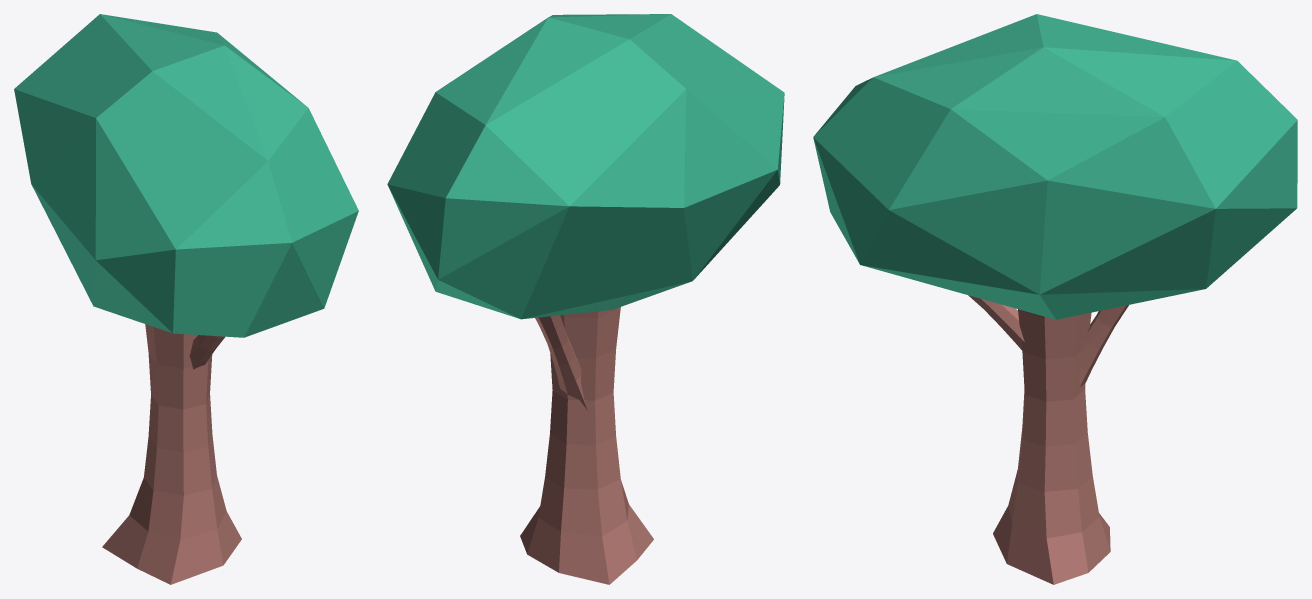
File: ArbolVerde.fbx
3 views of the same model, side by side, from view 1: azimuth 30°, elevation 25°; view 2: azimuth 150°, elevation 25°; view 3: azimuth 270°, elevation 25° (orthographic). The views are drawn at different scales.
Parts seen in each view (by area): view 1: Cube.002; view 2: Cube.002; view 3: Cube.002.
Part boxes in pixels (x1,y1,x2,y2): Cube.002: (14,14,358,584); Cube.002: (387,14,784,584); Cube.002: (813,14,1297,584).
Bounding box in the file's own units: 300 × 556 × 464.
